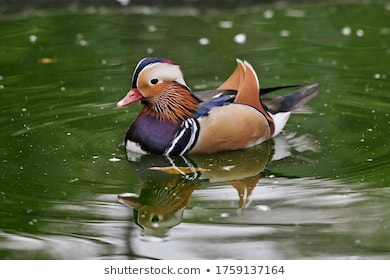duck: (101, 38, 339, 180), (97, 159, 313, 237)
